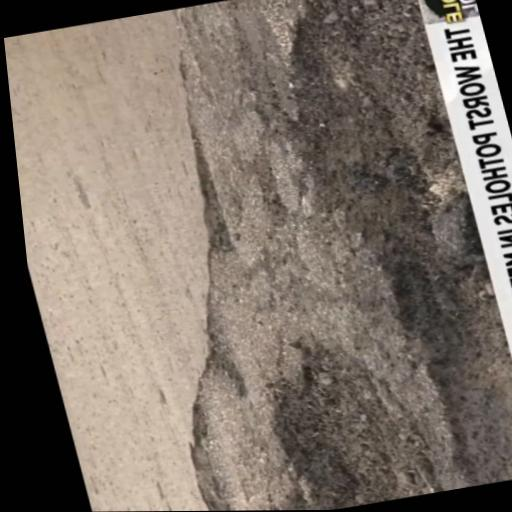pothole: (162, 0, 512, 511)
